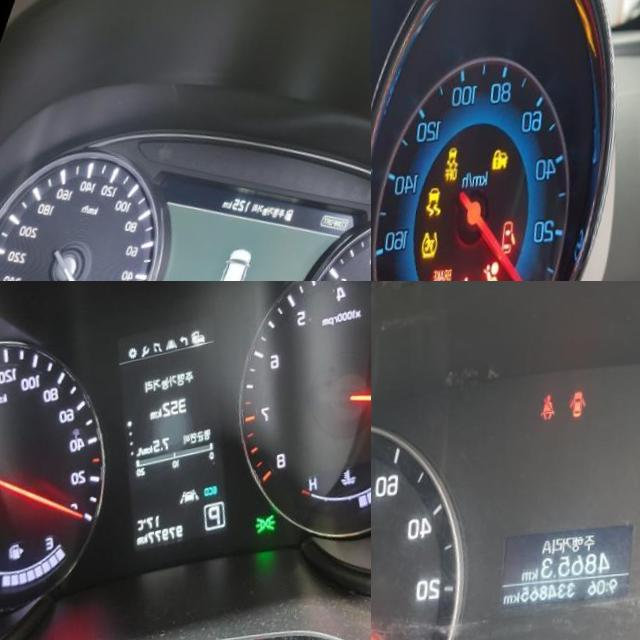Doors: (573, 390, 596, 420), (512, 220, 530, 258)
LaneCenteringOff: (190, 487, 215, 508)
SideLamp: (267, 515, 294, 538)
